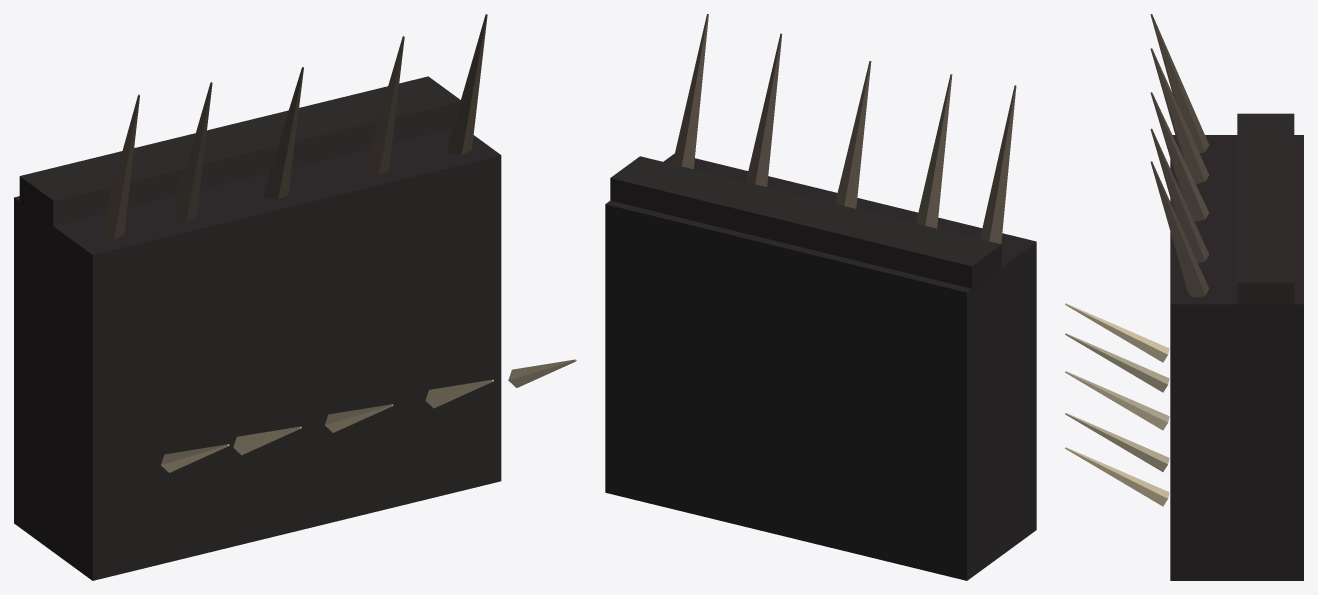
File: black_wall.glb
The picture shows the model from 3 angles, left to right: view 1: azimuth 30°, elevation 25°; view 2: azimuth 150°, elevation 25°; view 3: azimuth 270°, elevation 25°; orthographic projection. The views are drawn at different scales.
Visible parts, largest first — view 1: black_wall; view 2: black_wall; view 3: black_wall.
Part boxes in pixels (x1=…): black_wall: x1=14, y1=14, x2=576, y2=580; black_wall: x1=605, y1=14, x2=1036, y2=580; black_wall: x1=1065, y1=14, x2=1303, y2=580.
Bounding box in the file's own units: 4.4 × 4.77 × 2.5.
Materials: 1 (1 with a texture image).
